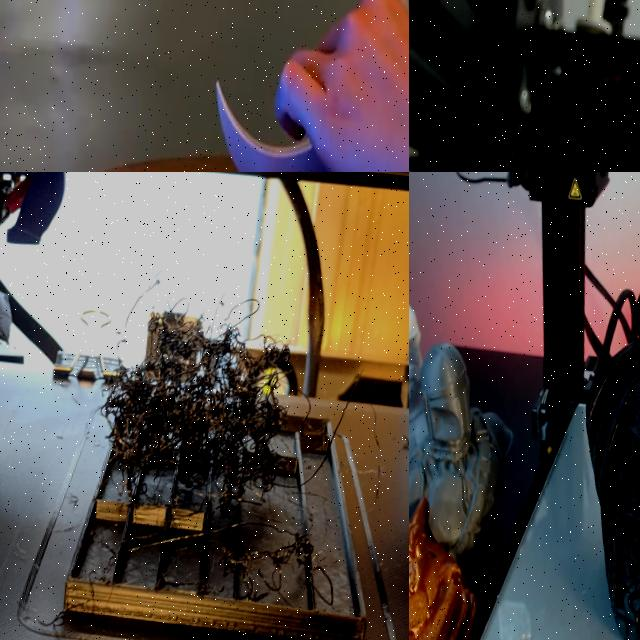spaghetti: (97, 288, 342, 520), (206, 523, 355, 629)
